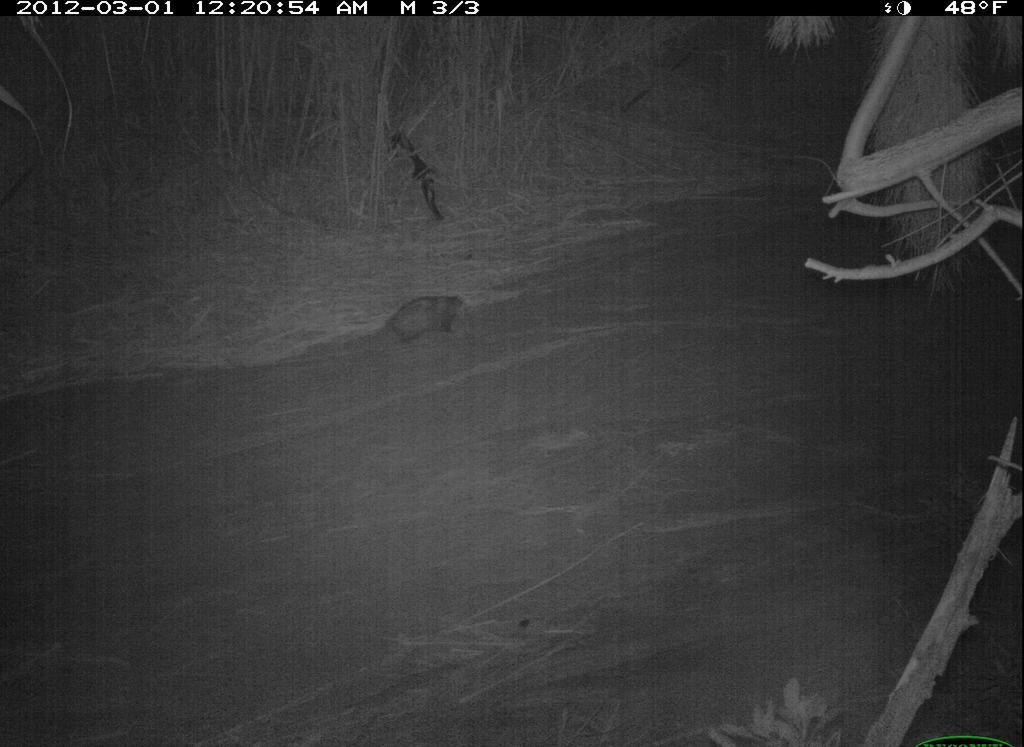opossum: (365, 280, 493, 355)
